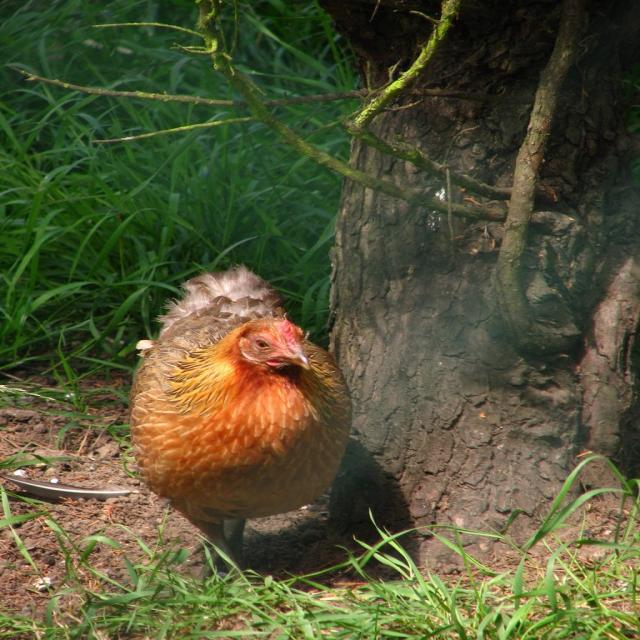Chicken: (118, 263, 361, 575)
